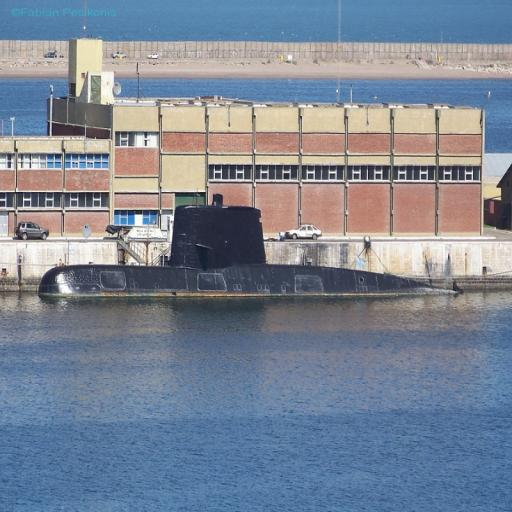submarine: (46, 208, 462, 297)
